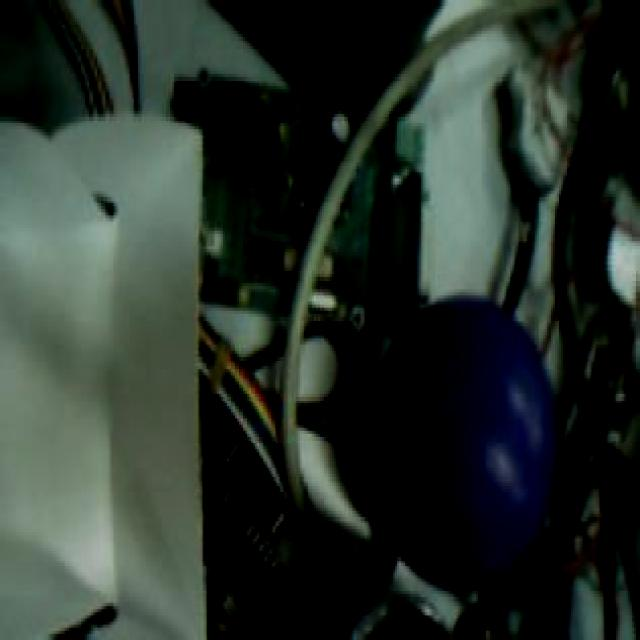BallPurple: (369, 296, 555, 588)
